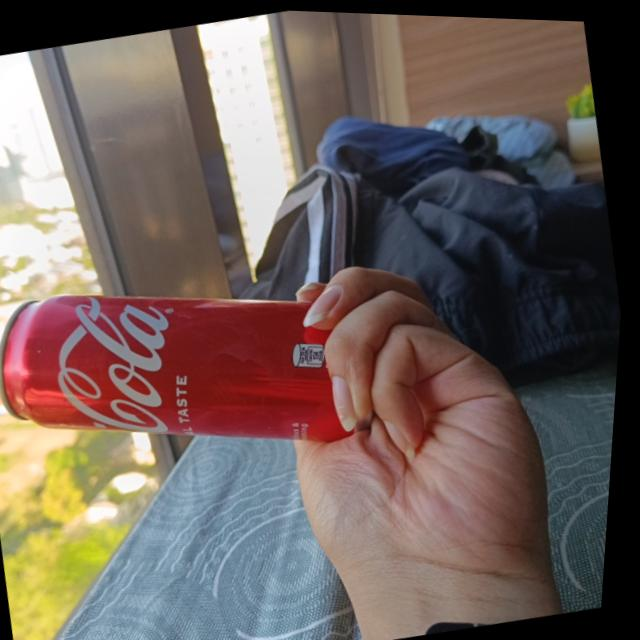coke: (0, 236, 389, 501)
